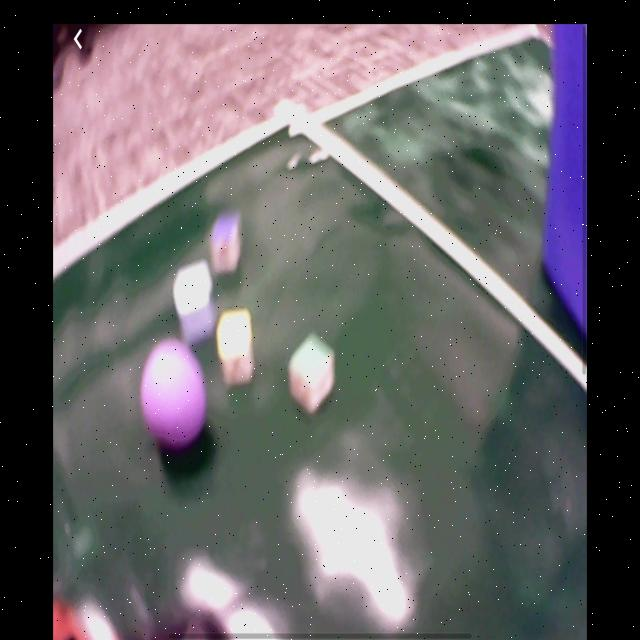ball: (141, 338, 208, 449)
